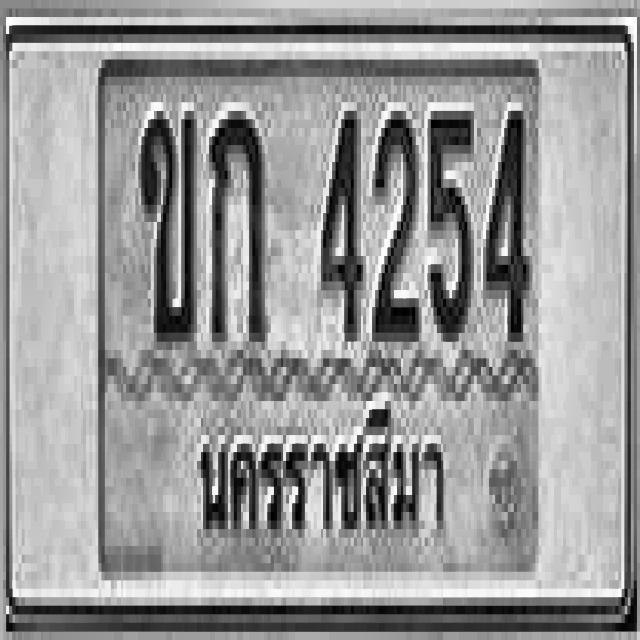license-plate: (8, 29, 633, 616)
